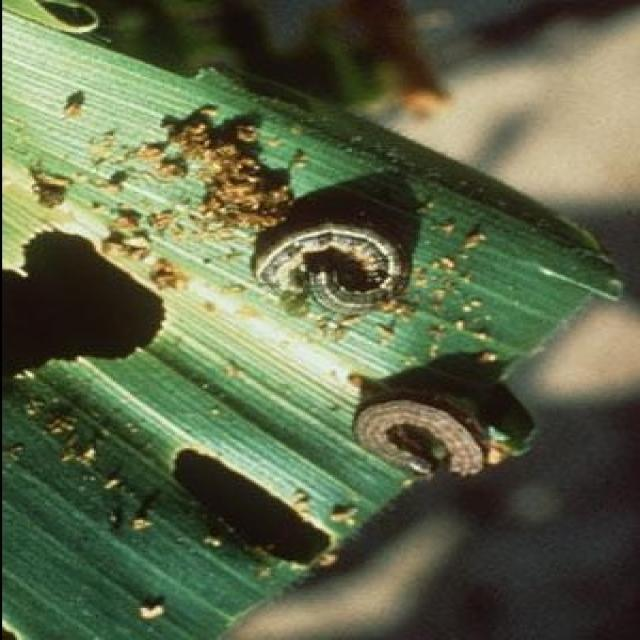army worm: (251, 225, 413, 315), (352, 399, 495, 484)
